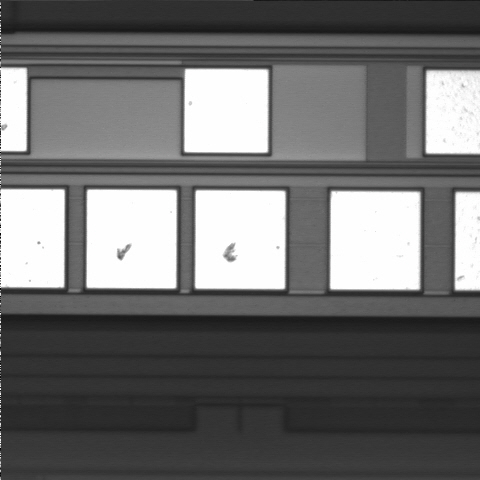pad: (195, 190, 285, 289), (330, 191, 420, 290), (87, 190, 177, 288), (184, 69, 268, 153)
